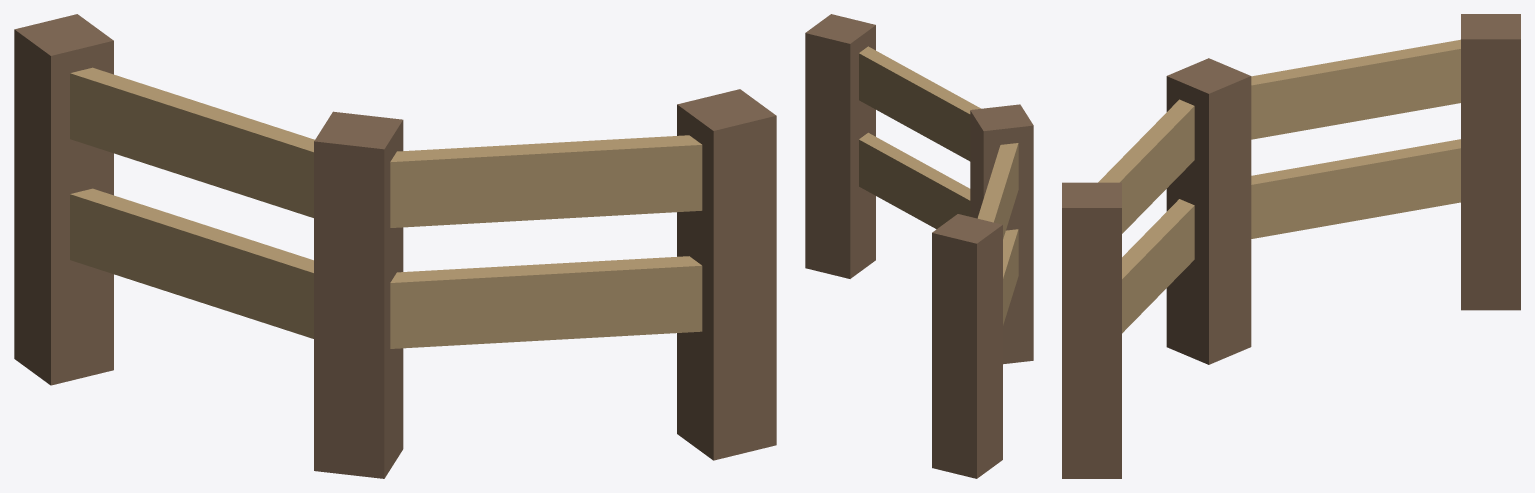
The model's file is Hilly_Prop_Fence_Curve_1x1.obj.
3 renders of one model, left to right at view 1: azimuth 30°, elevation 25°; view 2: azimuth 150°, elevation 25°; view 3: azimuth 270°, elevation 25°, orthographic. The views are drawn at different scales.
Parts seen in each view (by area): view 1: object6, object2, object1, object4, object3, object7, object5; view 2: object1, object6, object2, object4, object3, object7, object5; view 3: object2, object1, object6, object7, object5, object4, object3.
Part boxes in pixels (x1,y1,x2,y2): object6: (677, 89, 776, 460); object2: (314, 111, 403, 478); object1: (14, 14, 113, 385); object4: (390, 135, 702, 227); object3: (390, 256, 702, 348); object7: (70, 67, 314, 217); object5: (70, 188, 313, 338); object1: (932, 214, 1002, 478); object6: (805, 14, 875, 278); object2: (970, 104, 1033, 364); object4: (859, 46, 980, 161); object3: (859, 132, 970, 229); object7: (977, 143, 1018, 238); object5: (1003, 229, 1018, 325); object2: (1166, 58, 1251, 364); object1: (1461, 14, 1520, 310); object6: (1062, 182, 1121, 478); object7: (1251, 39, 1460, 139); object5: (1251, 139, 1460, 238); object4: (1098, 99, 1194, 233); object3: (1122, 199, 1194, 333).
Bounding box in the file's own units: 1.15 × 0.7498 × 1.15.
